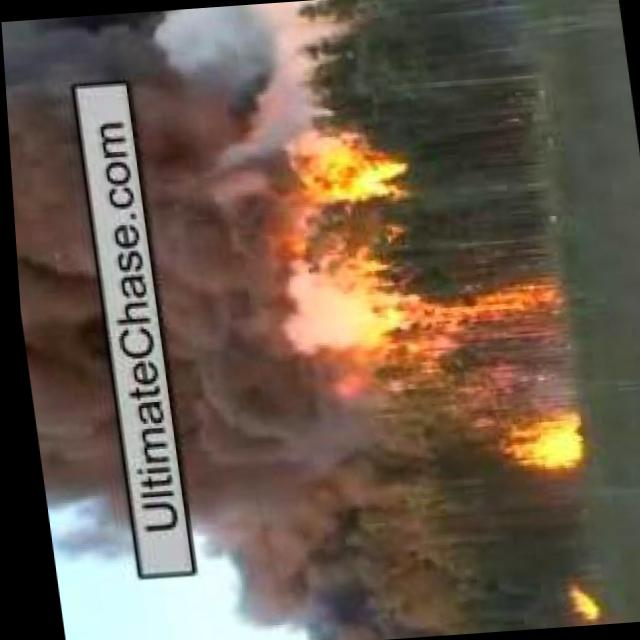Fire: (274, 118, 409, 219), (365, 270, 561, 335), (484, 402, 581, 477), (554, 574, 596, 624)
